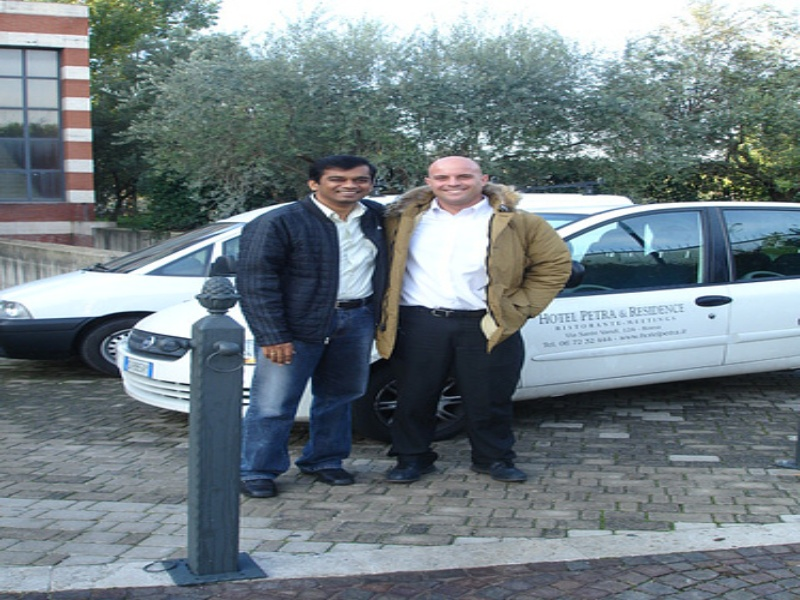car: (115, 201, 800, 441), (1, 193, 633, 379)
person: (386, 156, 571, 482), (235, 157, 389, 499)
